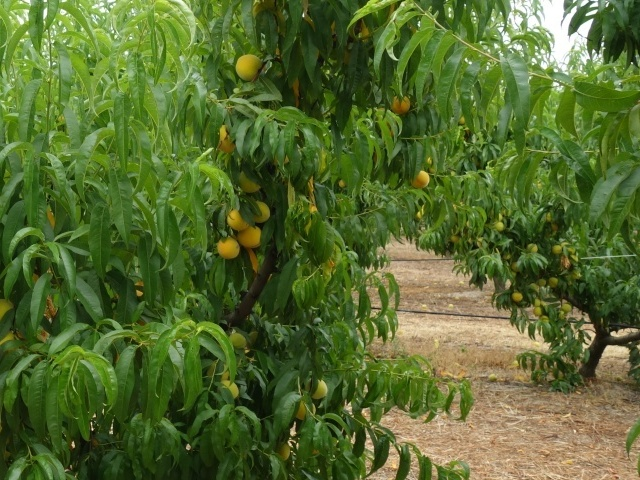peach: (231, 48, 269, 87), (211, 115, 241, 164), (237, 162, 269, 202), (240, 192, 275, 227), (224, 199, 255, 235), (236, 220, 268, 251), (211, 229, 241, 260), (305, 370, 334, 402), (388, 87, 416, 118), (217, 375, 244, 405), (292, 394, 319, 424), (408, 164, 435, 192), (227, 326, 254, 353)
